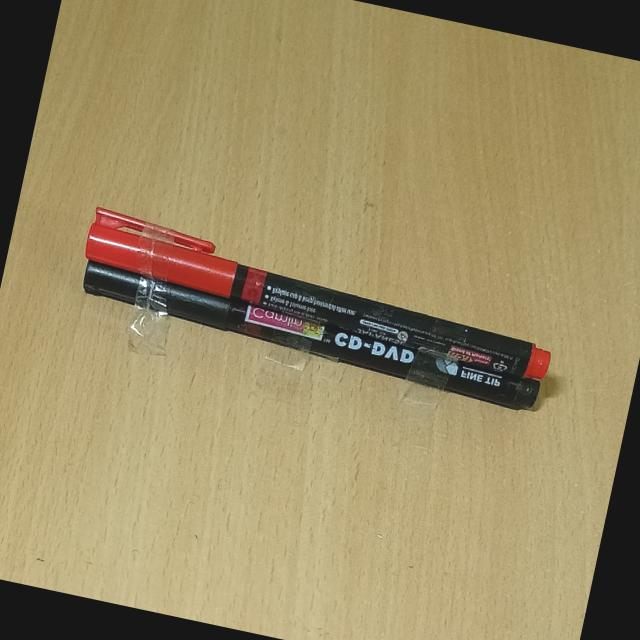marker: (41, 228, 587, 412)
